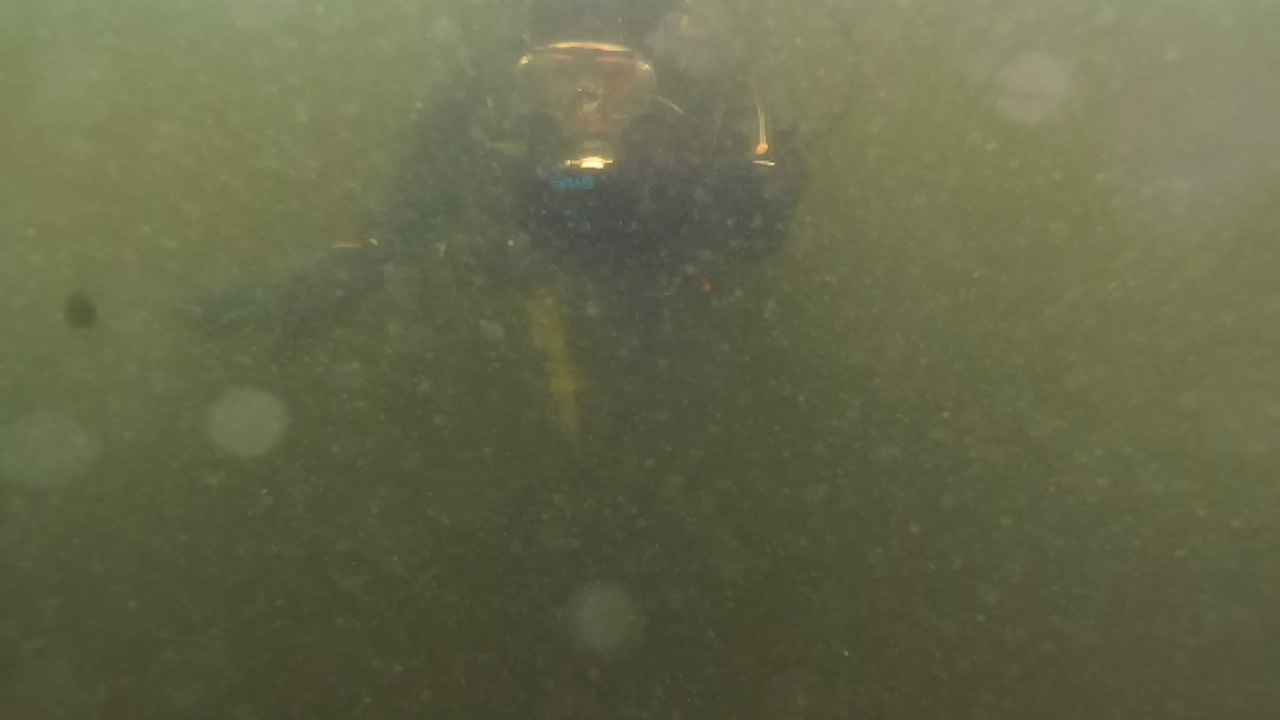Diver: (168, 4, 826, 368)
Head: (476, 4, 680, 176)
